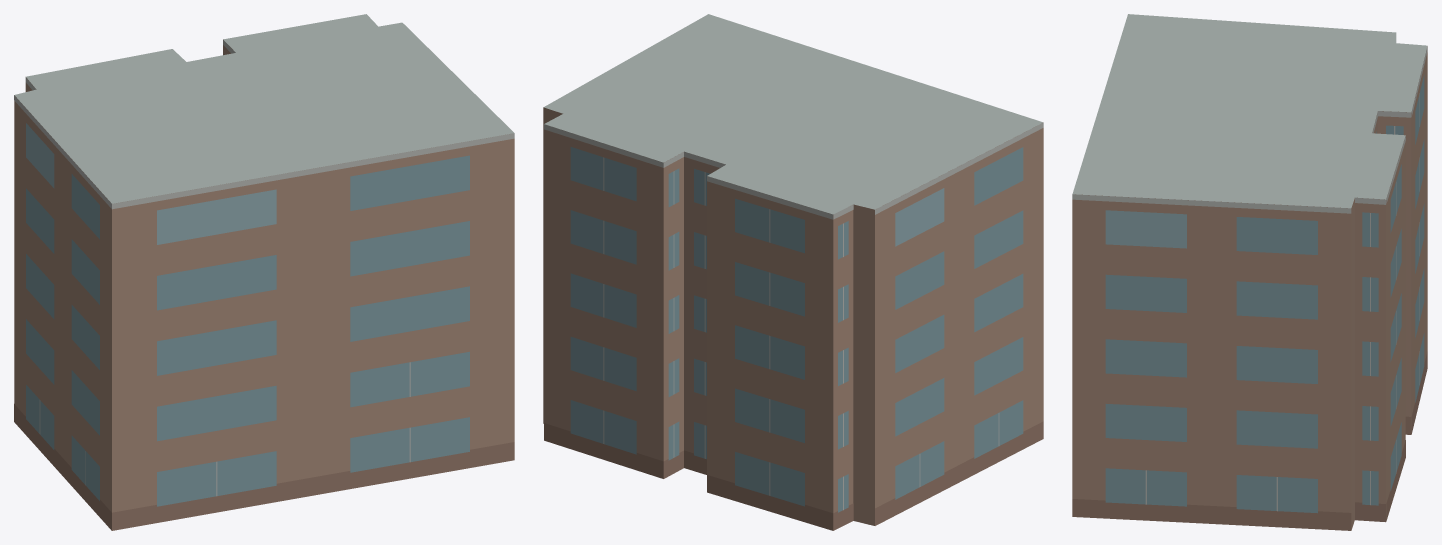
Rendered from survey-upis-32824545.glb.
3 views of the same model, side by side, from view 1: azimuth 30°, elevation 25°; view 2: azimuth 150°, elevation 25°; view 3: azimuth 270°, elevation 25° (orthographic). The views are drawn at different scales.
Parts seen in each view (by area): view 1: survey-upis-32824545.tmp; view 2: survey-upis-32824545.tmp; view 3: survey-upis-32824545.tmp.
Boxes of the visible parts, x1=… form: survey-upis-32824545.tmp: x1=14, y1=14, x2=514, y2=530; survey-upis-32824545.tmp: x1=543, y1=14, x2=1043, y2=530; survey-upis-32824545.tmp: x1=1072, y1=14, x2=1427, y2=530.
Bounding box in the file's own units: 18.87 × 14.6 × 14.58.
